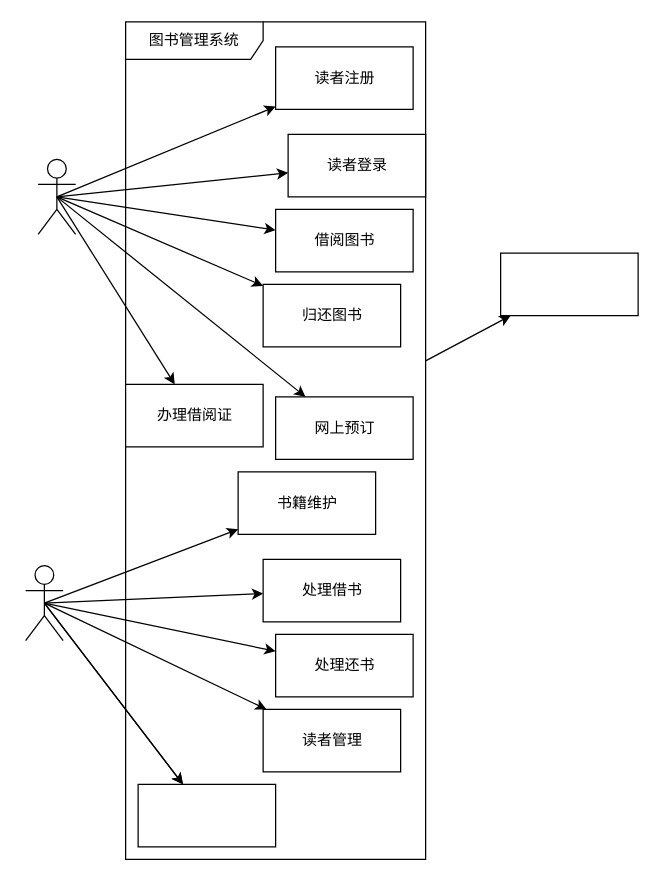
Image size: 660x881. Some labels were removed from this diagram. Here are the shapes that lost their labels. From the top down, the centre of each, then its label:
At point (56, 196): "读者".
At point (568, 284): "图书馆".
At point (43, 602): "管理员".
At point (206, 815): "图书管理".
